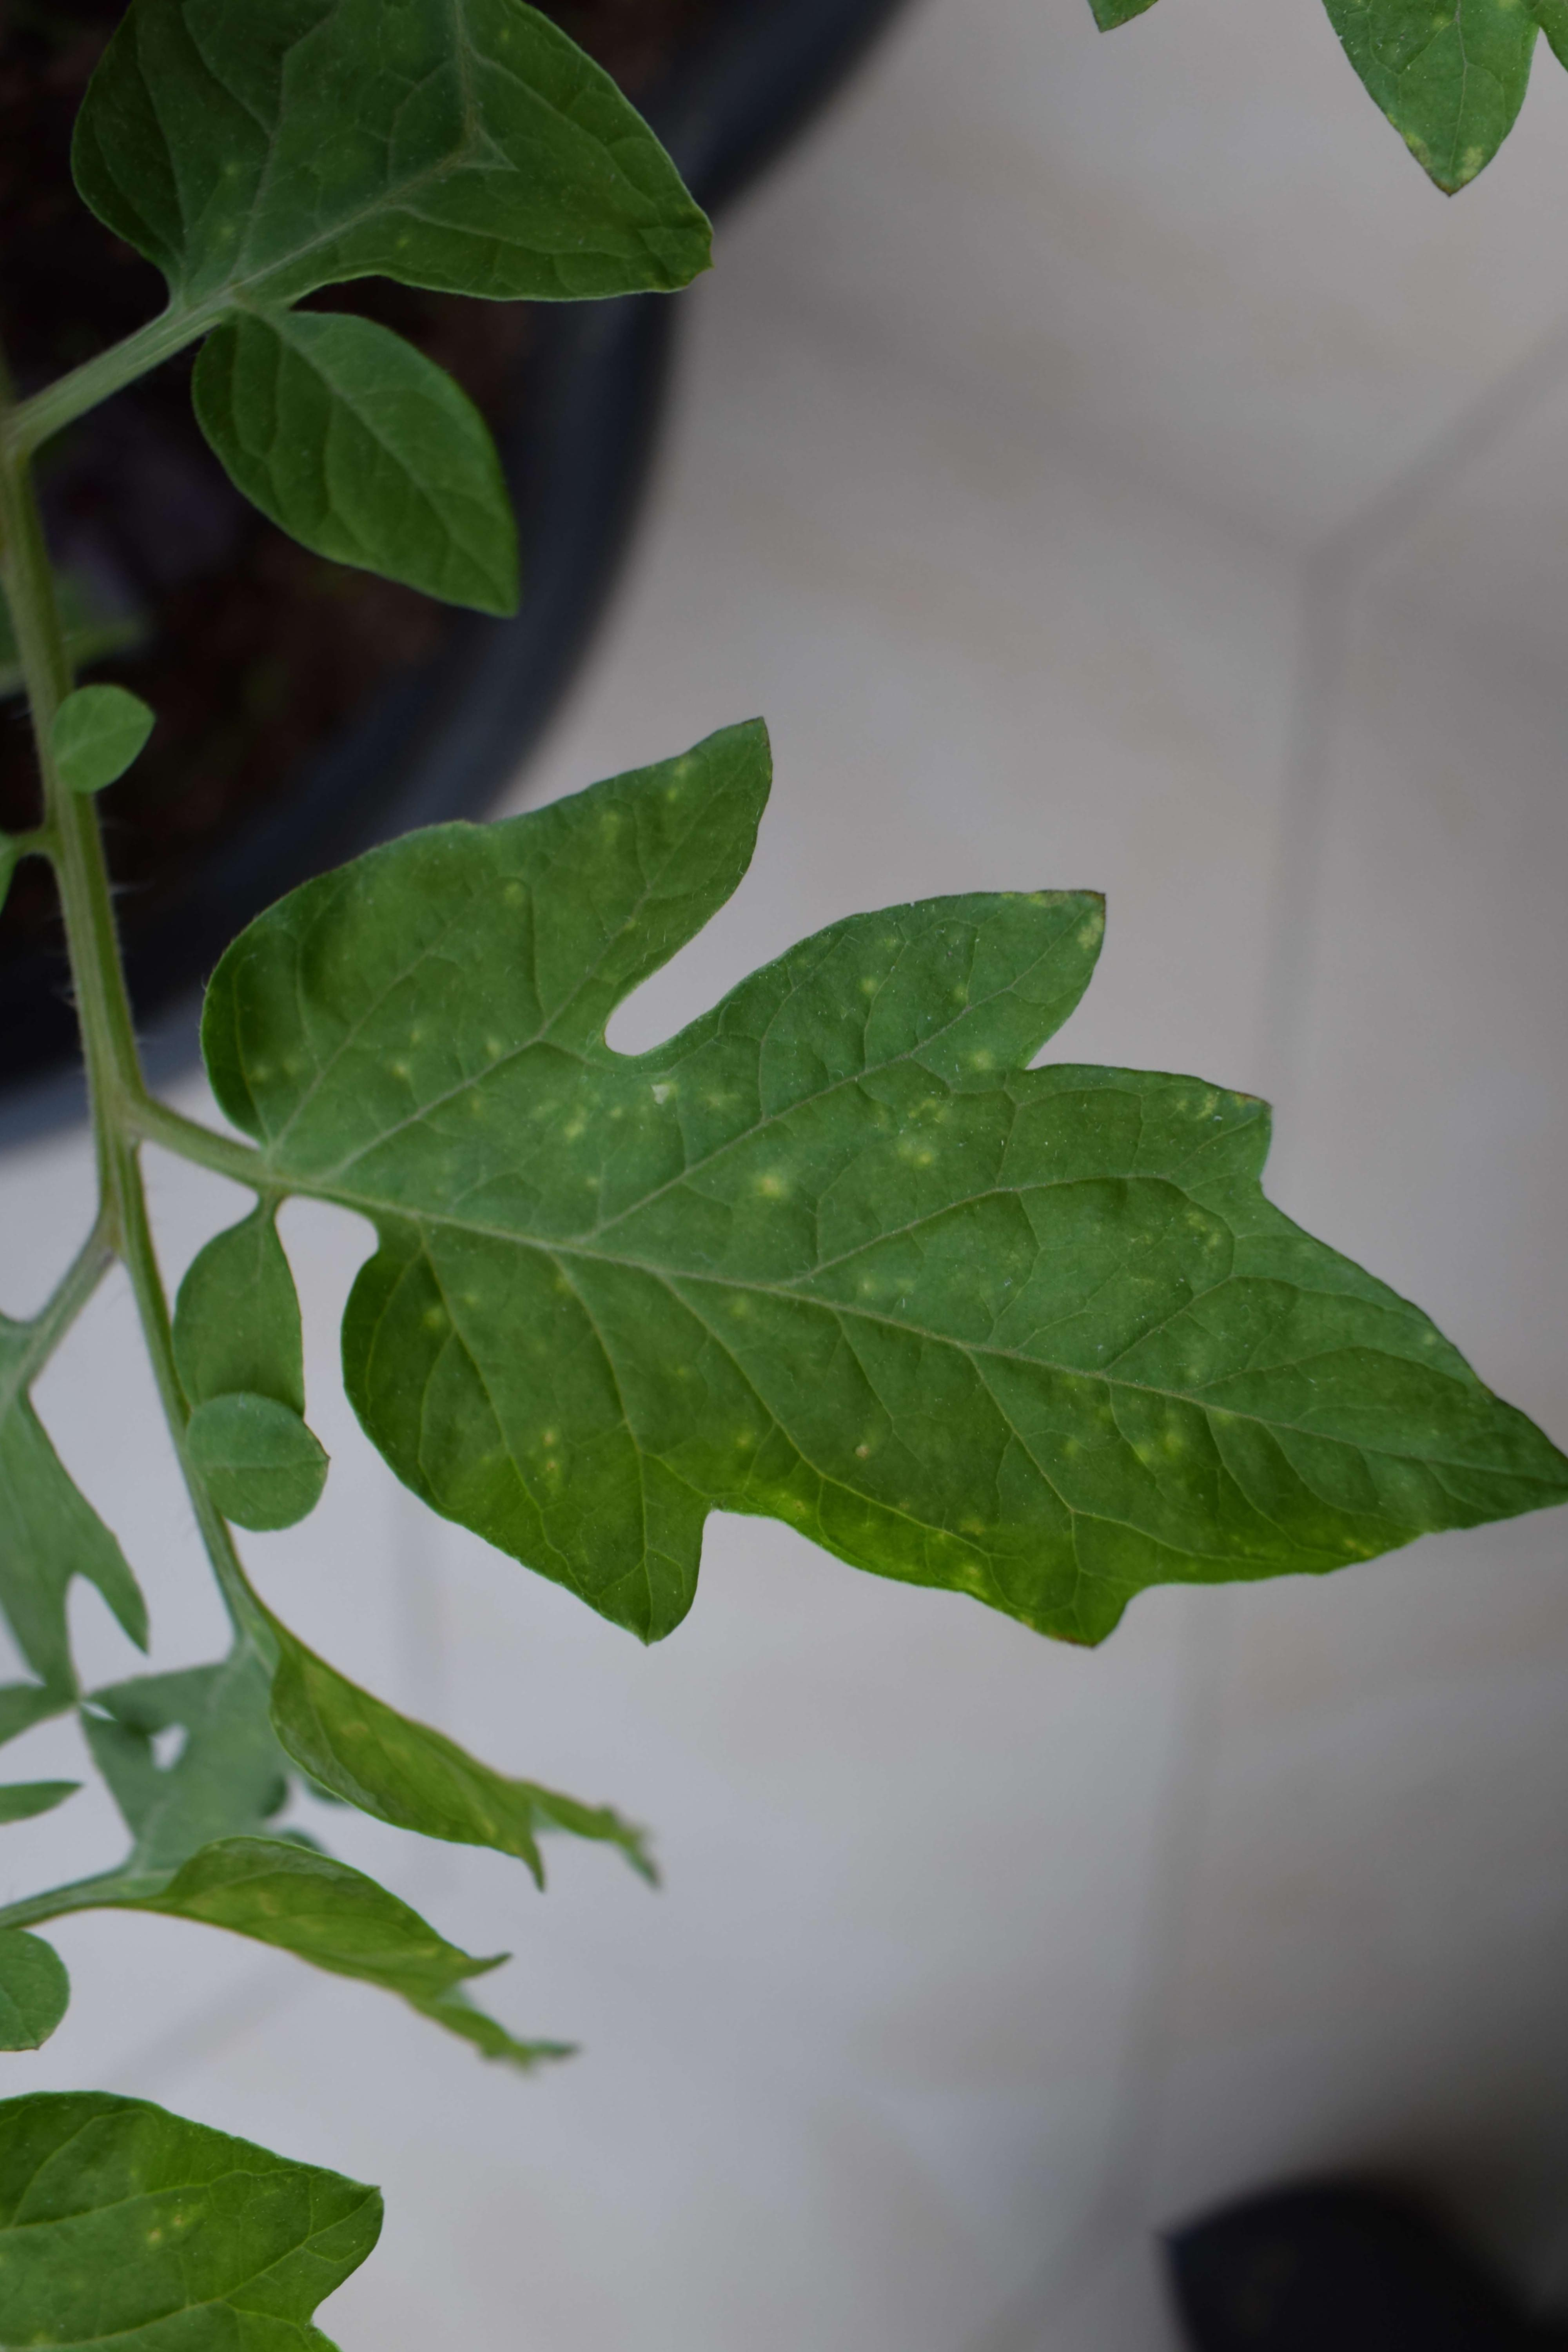Tomato mold leaf: (33, 532, 1568, 2026)
